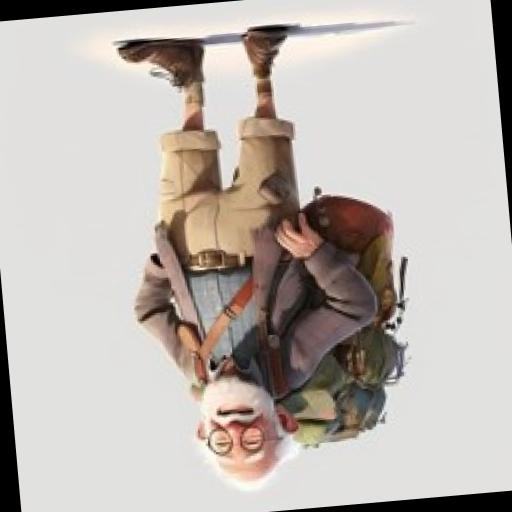human: (102, 8, 434, 502)
